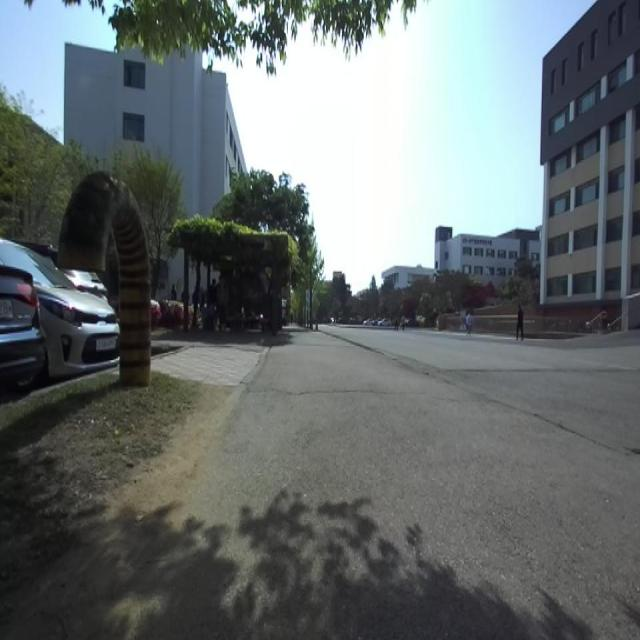sidewalk: (128, 332, 640, 638)
